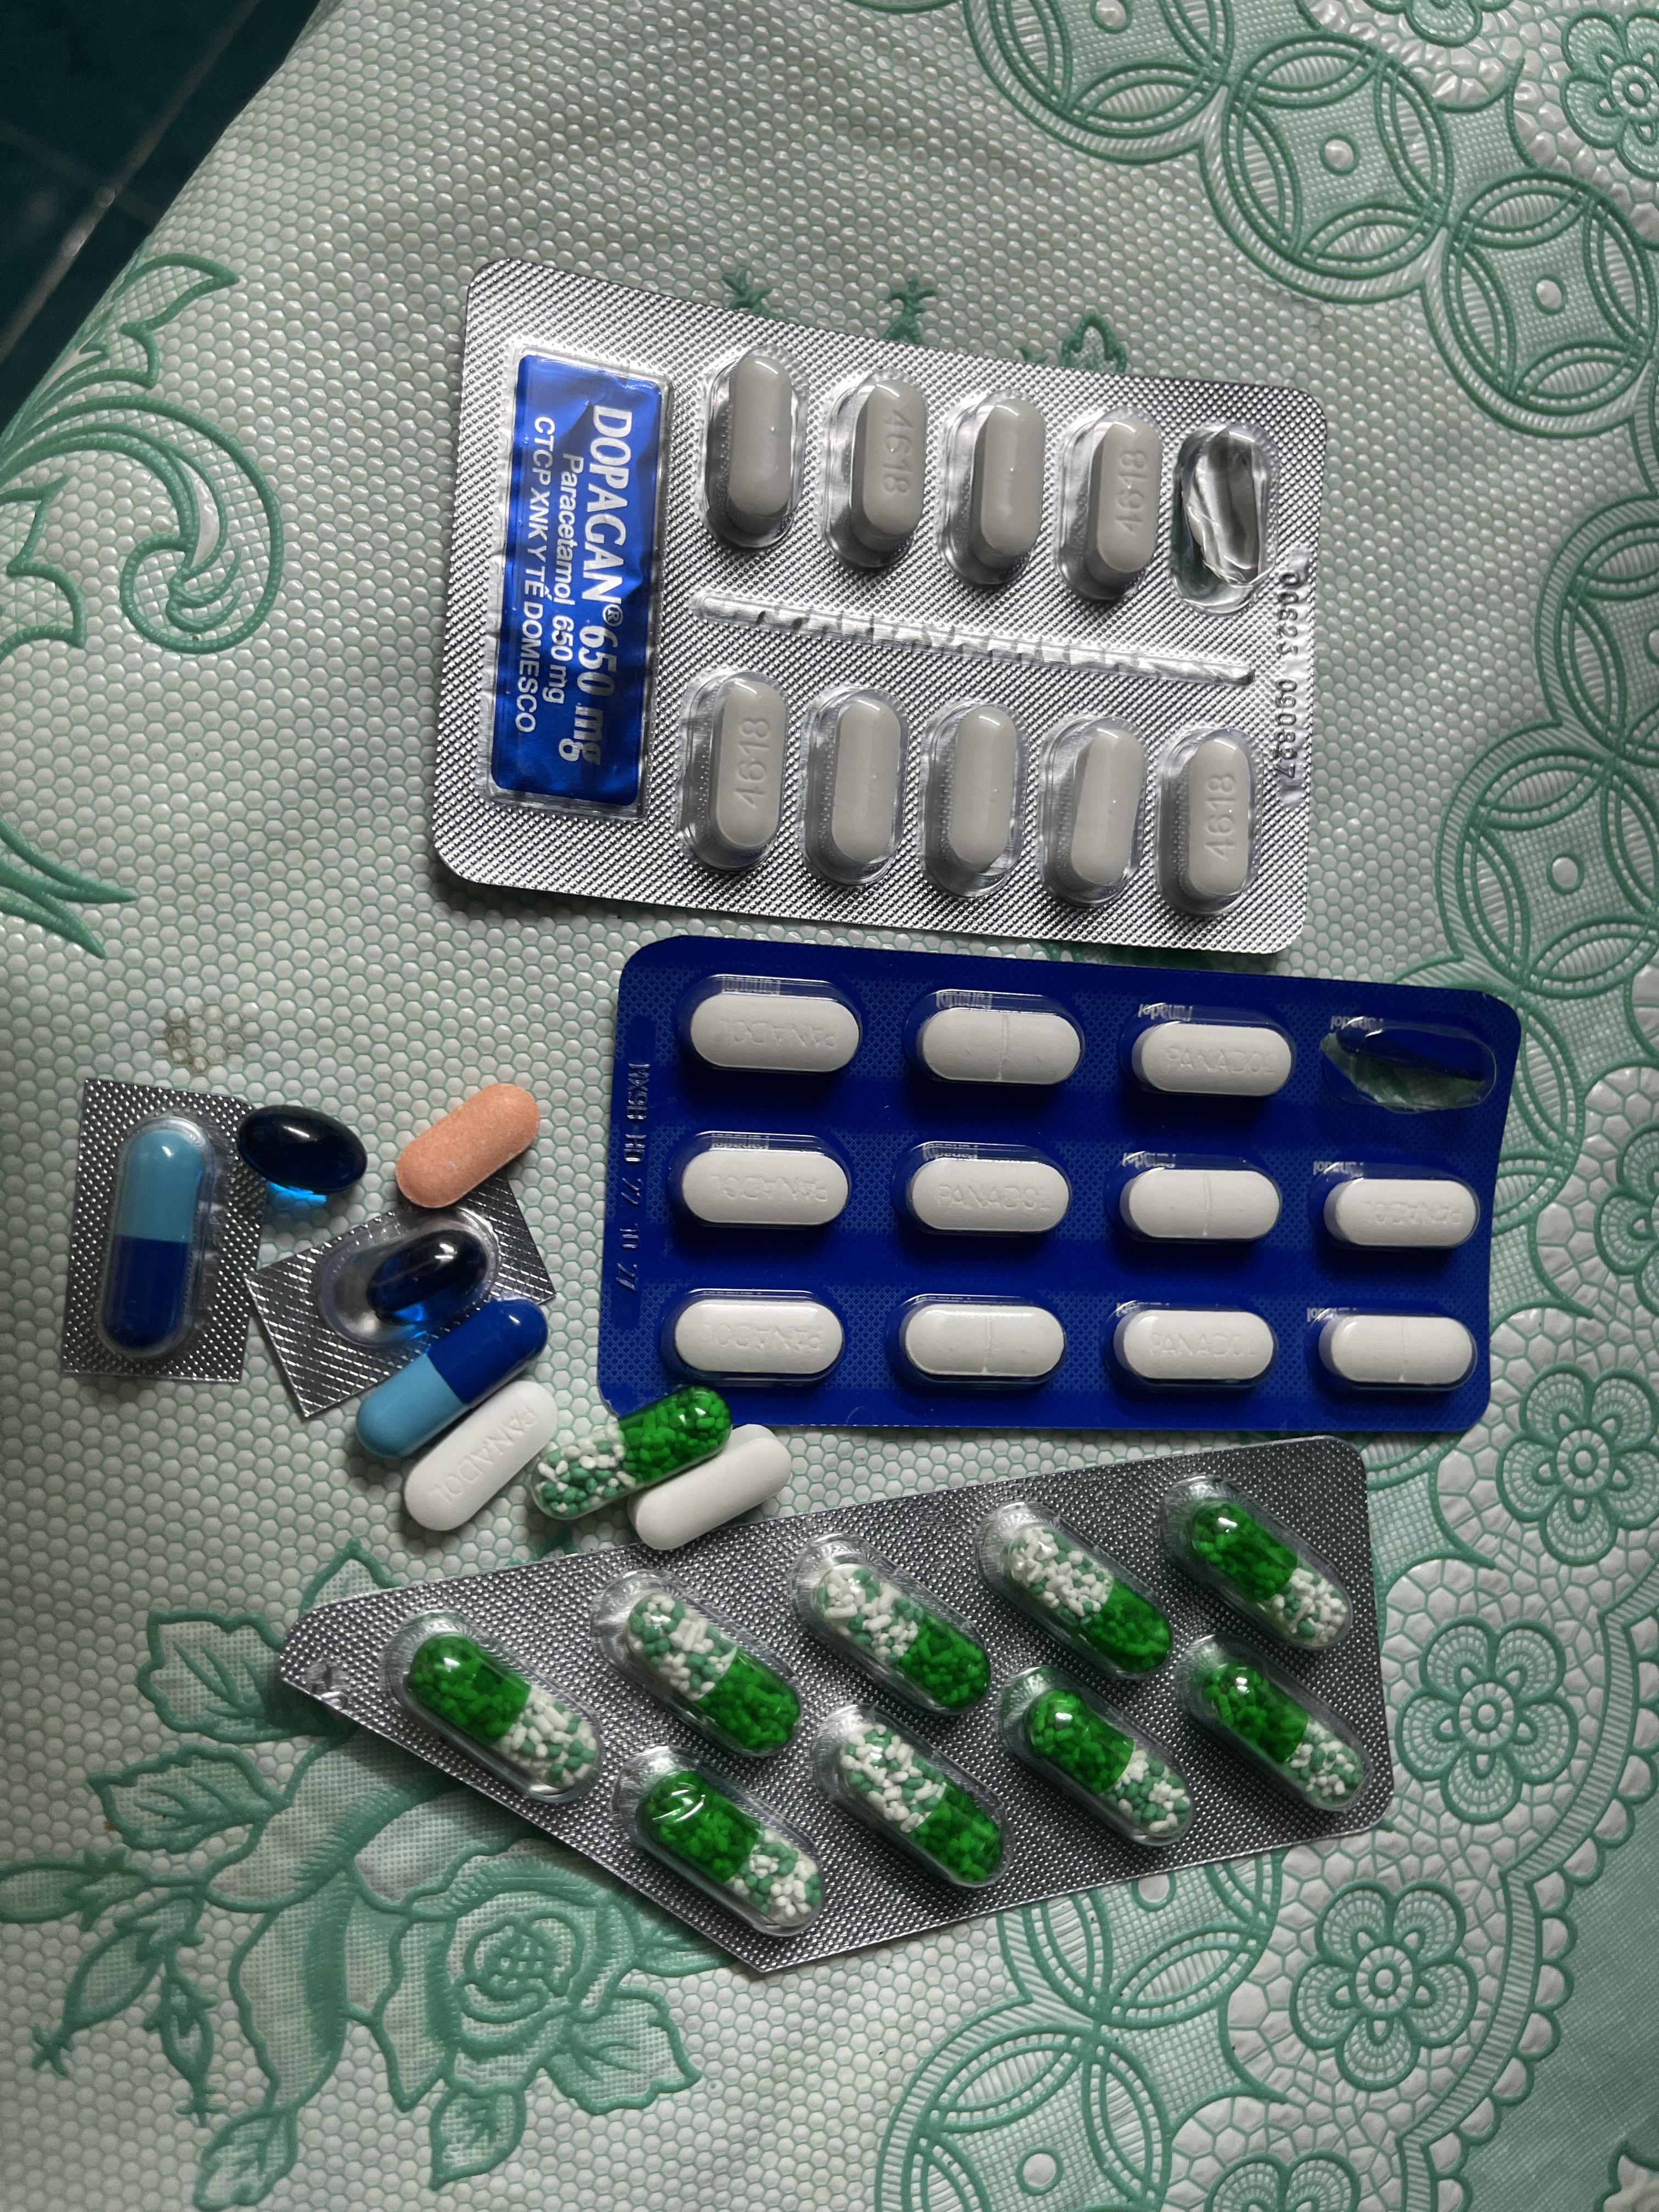Lincomyxin_500mg: (234, 1106, 368, 1205), (364, 1228, 490, 1329)
Loratadine_10mg: (396, 1085, 540, 1209)
Paracetamol_350mg: (399, 1381, 559, 1531), (683, 977, 859, 1078), (669, 1132, 849, 1230), (662, 1289, 840, 1383), (896, 1294, 1070, 1390), (915, 1000, 1086, 1089), (1117, 1306, 1279, 1392), (906, 1155, 1072, 1237), (1117, 1163, 1281, 1244), (1131, 1021, 1291, 1101), (1319, 1312, 1478, 1390), (1323, 1176, 1483, 1251)
Paracetamol_500mg: (697, 347, 802, 552), (803, 688, 911, 887), (821, 373, 929, 571), (681, 672, 788, 873), (943, 387, 1049, 587), (1040, 718, 1150, 909), (920, 702, 1026, 899), (1053, 408, 1159, 601), (631, 1423, 793, 1547), (1155, 726, 1256, 916)
Paracetamol_650mg: (408, 1630, 596, 1787), (1012, 1681, 1190, 1844), (836, 1724, 1014, 1885), (638, 1770, 819, 1923), (533, 1386, 735, 1521), (1187, 1656, 1361, 1810), (809, 1559, 986, 1707), (626, 1595, 798, 1747), (1006, 1524, 1173, 1669), (1185, 1501, 1351, 1646)
pill: (352, 1296, 547, 1461), (98, 1113, 223, 1359)
